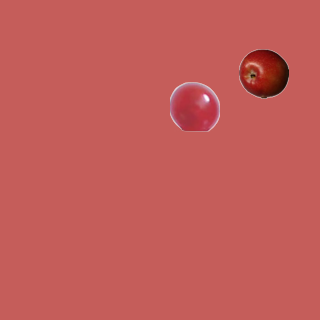Apple Braeburn: (238, 48, 288, 98)
Redcurrant: (169, 81, 219, 131)
